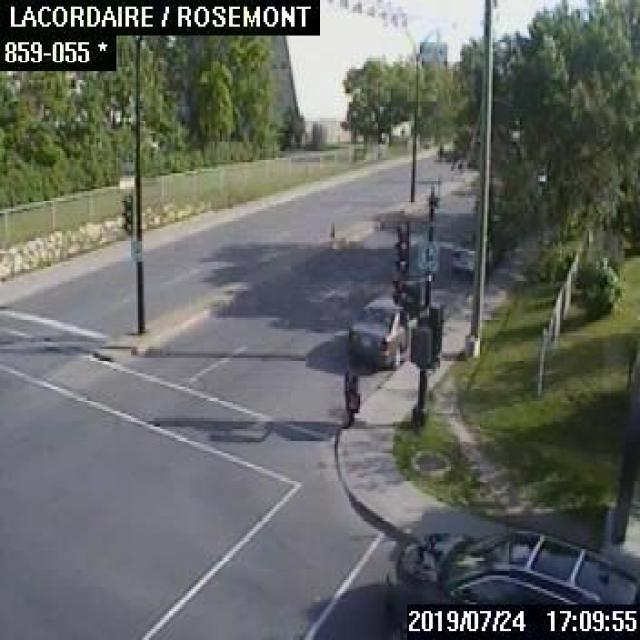pedestrian: (344, 362, 358, 427)
vehicle: (393, 527, 638, 638), (347, 289, 441, 366), (450, 242, 476, 276)
